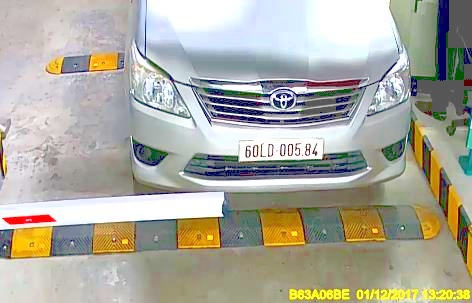plate: (241, 135, 326, 165)
